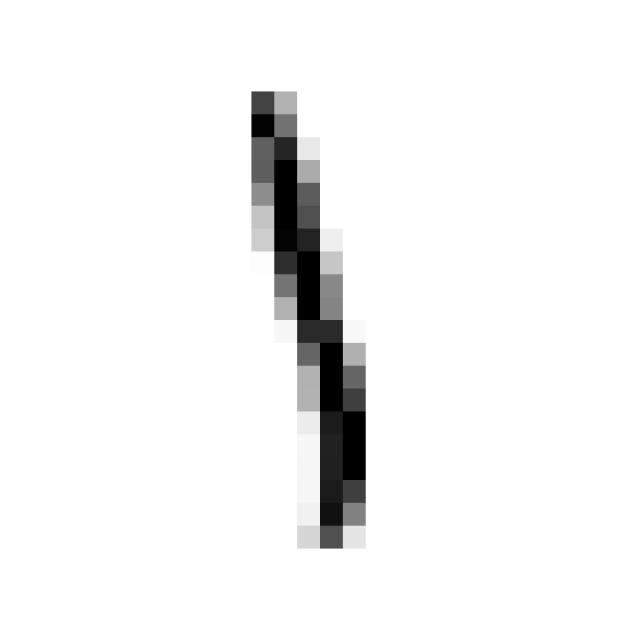1 -one-: (228, 76, 386, 556)
